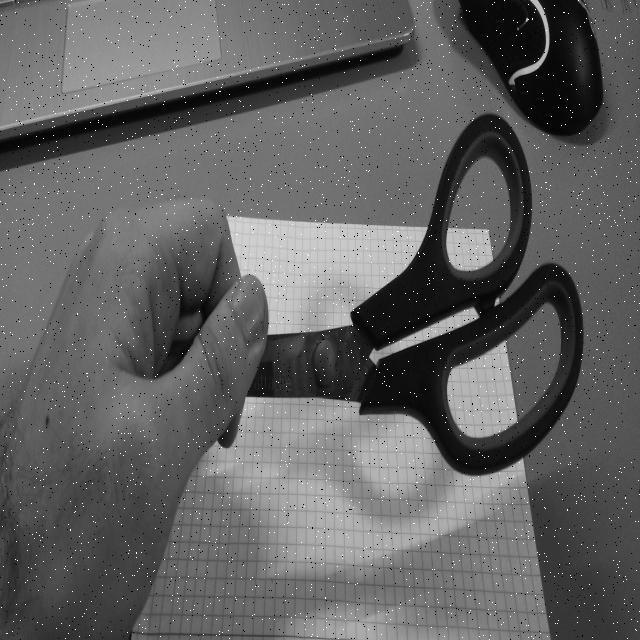scissors: (158, 100, 588, 483)
